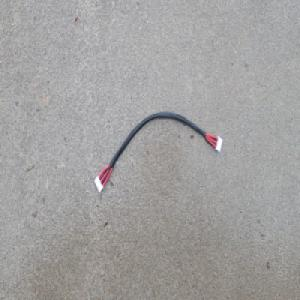Wire: (93, 109, 223, 194)
